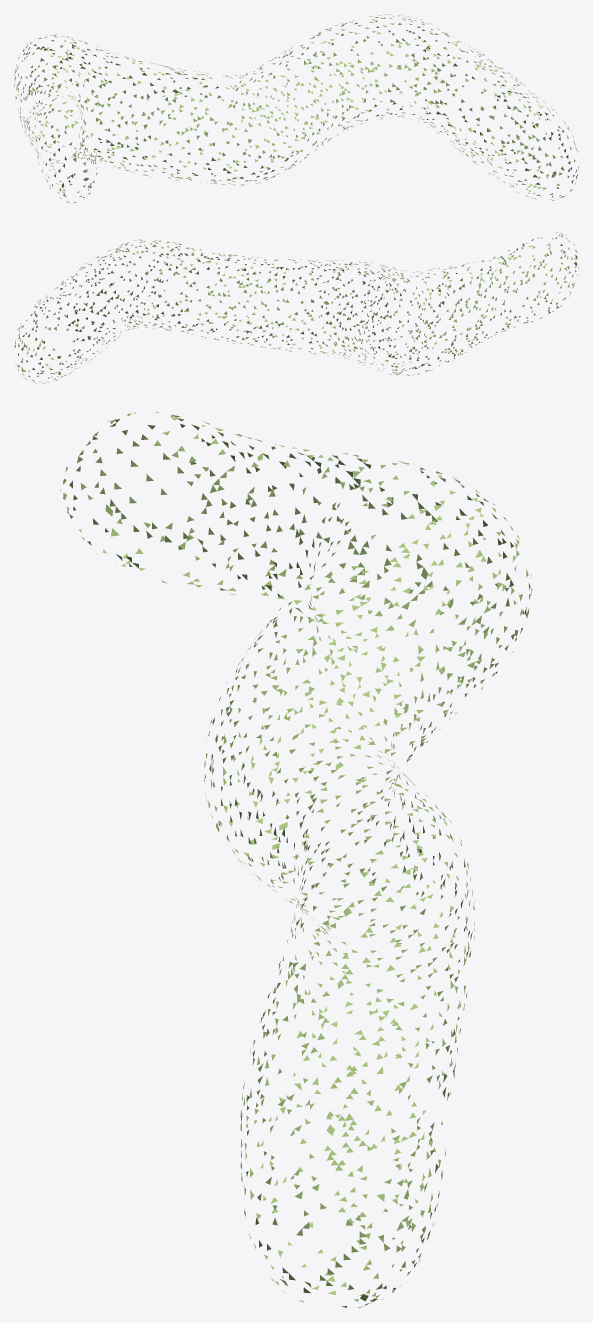
The model's file is morph_012.glb.
The picture shows the model from 3 angles, top to bottom: view 1: azimuth 30°, elevation 25°; view 2: azimuth 150°, elevation 25°; view 3: azimuth 270°, elevation 25°; orthographic projection. The views are drawn at different scales.
Bounding box in the file's own units: 104 × 44.64 × 43.04.
